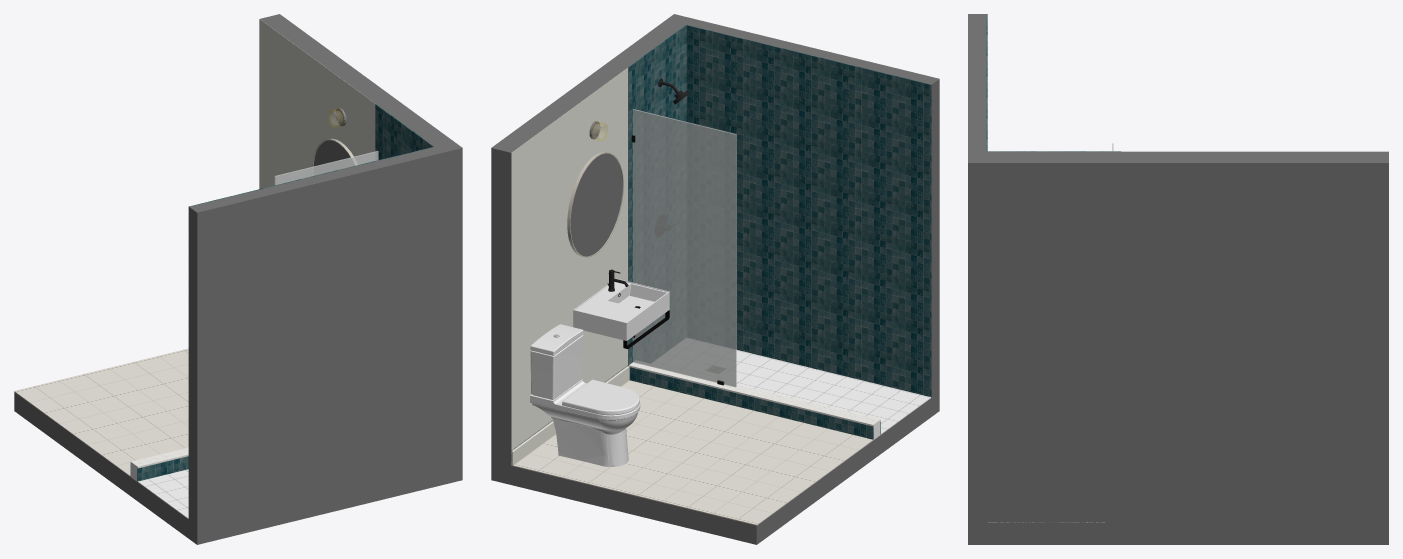
The picture shows the model from 3 angles, left to right: view 1: azimuth 30°, elevation 25°; view 2: azimuth 150°, elevation 25°; view 3: azimuth 270°, elevation 25°; orthographic projection. The views are drawn at different scales.
Parts seen in each view (by area): view 1: 3DGeom-68, 3DGeom-33, 3DGeom-63, 3DGeom-69, 3DGeom-34, 3DGeom-32, 3DGeom-59, 3DGeom-36, 3DGeom-56, 3DGeom-62, 3DGeom-58; view 2: 3DGeom-58, 3DGeom-36, 3DGeom-33, 3DGeom-63, 3DGeom-59, 3DGeom-69, 3DGeom-34, 3DGeom-32, 3DGeom-68, 3DGeom-56, 3DGeom-29, 3DGeom-3 (+8 smaller); view 3: 3DGeom-69, 3DGeom-34, 3DGeom-68.
Part boxes in pixels (left/top/right/bottom): 3DGeom-68: left=189, top=147, right=442, bottom=525; 3DGeom-33: left=14, top=348, right=188, bottom=476; 3DGeom-63: left=259, top=19, right=375, bottom=189; 3DGeom-69: left=260, top=14, right=462, bottom=465; 3DGeom-34: left=14, top=392, right=462, bottom=544; 3DGeom-32: left=137, top=469, right=188, bottom=519; 3DGeom-59: left=383, top=110, right=433, bottom=158; 3DGeom-36: left=274, top=151, right=378, bottom=185; 3DGeom-56: left=313, top=140, right=354, bottom=174; 3DGeom-62: left=137, top=456, right=188, bottom=481; 3DGeom-58: left=188, top=146, right=433, bottom=519; 3DGeom-58: left=686, top=25, right=931, bottom=397; 3DGeom-36: left=632, top=109, right=736, bottom=387; 3DGeom-33: left=511, top=380, right=873, bottom=525; 3DGeom-63: left=511, top=68, right=627, bottom=450; 3DGeom-59: left=636, top=25, right=686, bottom=362; 3DGeom-69: left=491, top=14, right=693, bottom=465; 3DGeom-34: left=491, top=392, right=939, bottom=544; 3DGeom-32: left=652, top=338, right=931, bottom=435; 3DGeom-68: left=686, top=19, right=939, bottom=397; 3DGeom-56: left=570, top=153, right=622, bottom=256; 3DGeom-29: left=573, top=278, right=669, bottom=340; 3DGeom-3: left=530, top=324, right=640, bottom=462; 3DGeom-69: left=968, top=151, right=1388, bottom=522; 3DGeom-34: left=968, top=523, right=1388, bottom=544; 3DGeom-68: left=968, top=14, right=986, bottom=151.
Size of the model in its own units: 2.17 by 2.59 by 2.59.
